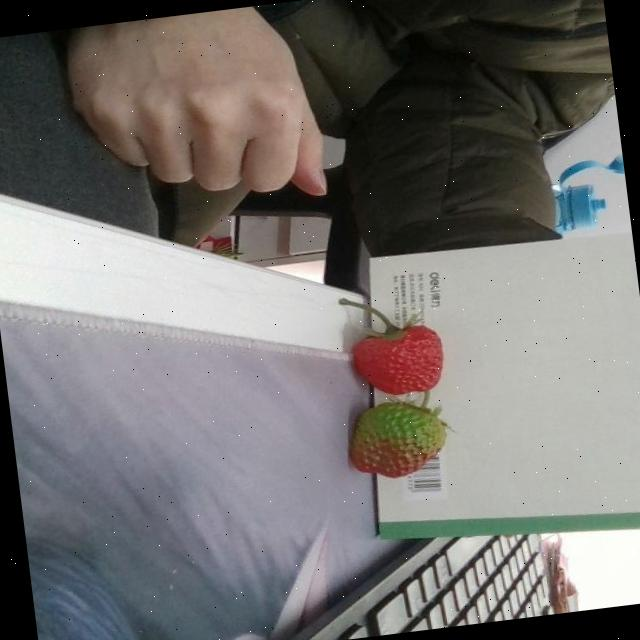strawberry: (343, 392, 450, 482), (344, 310, 450, 396)
